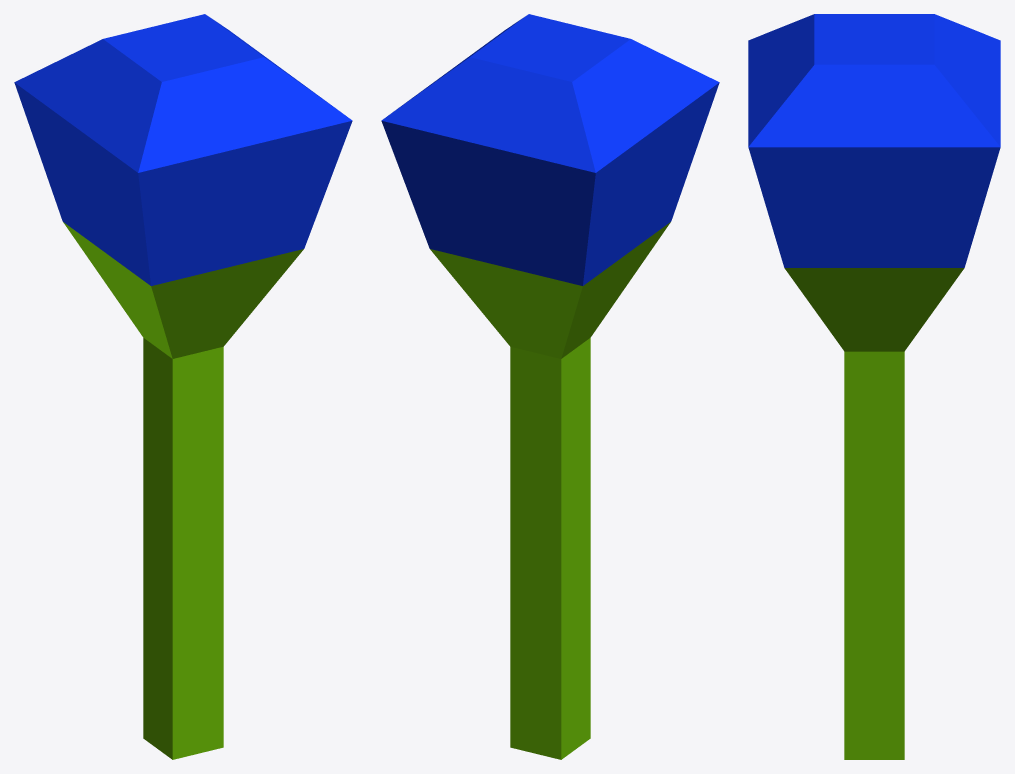
File: Sprout_B.fbx
3 renders of one model, left to right at view 1: azimuth 30°, elevation 25°; view 2: azimuth 150°, elevation 25°; view 3: azimuth 270°, elevation 25°, orthographic.
Parts seen in each view (by area): view 1: Flower_01_Bud; view 2: Flower_01_Bud; view 3: Flower_01_Bud.
Part boxes in pixels (x1,y1,x2,y2): Flower_01_Bud: (14,14,352,759); Flower_01_Bud: (381,14,719,759); Flower_01_Bud: (748,14,1000,759).
Size of the model in its own units: 5.04 by 15.6 by 5.04.
1 material, 1 textured.
